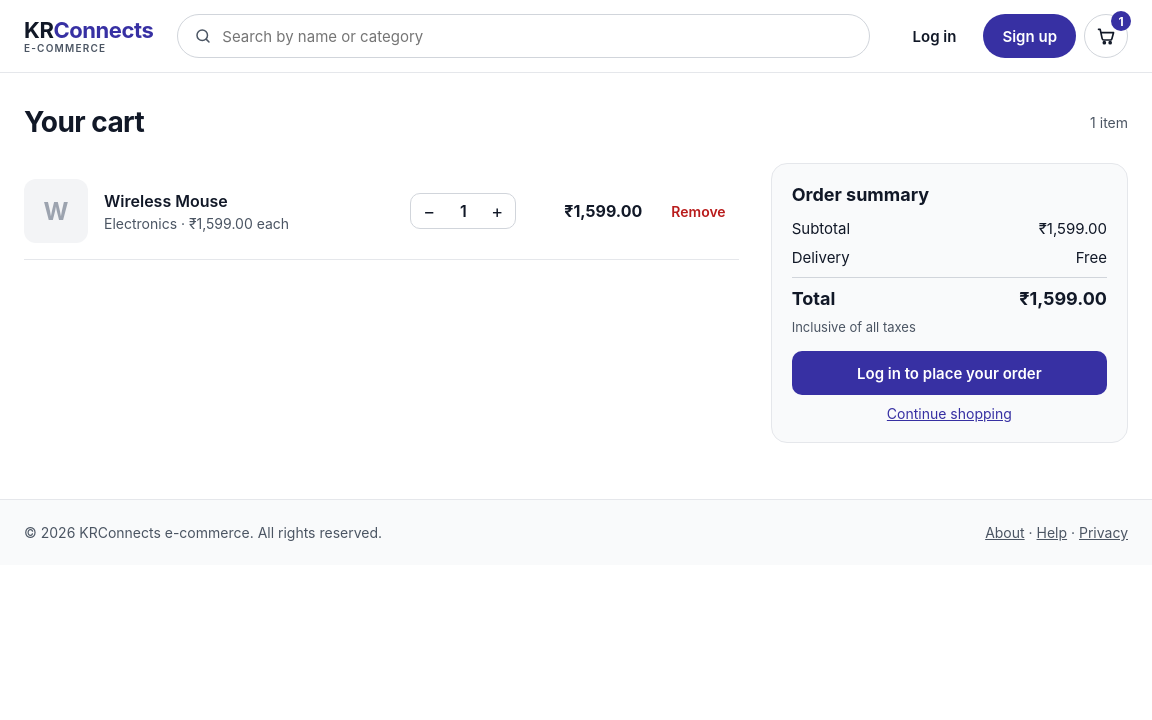
CartPage › Remove takes the product out of the cart
The image size is (1152, 720).
Check: the heading "Your cart" is shown, box [24, 105, 144, 139]
Click the button with aria-label "Remove Wireless Mouse".
click(698, 211)  # box [658, 193, 739, 229]
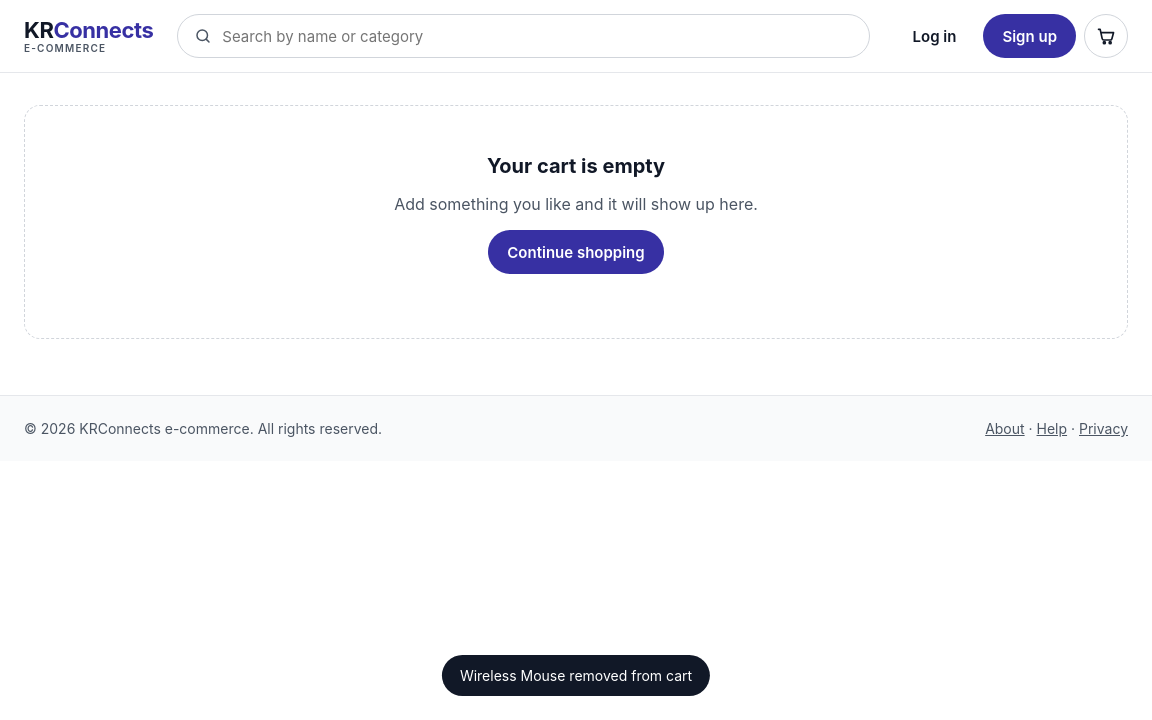
Check: the heading "Your cart is empty" is shown, box [487, 154, 665, 178]
